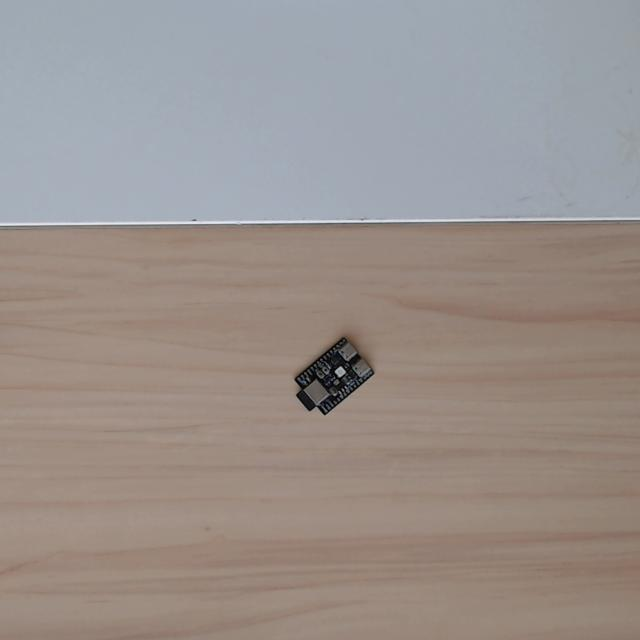ESP32C3-DevKit: (283, 334, 379, 425)
